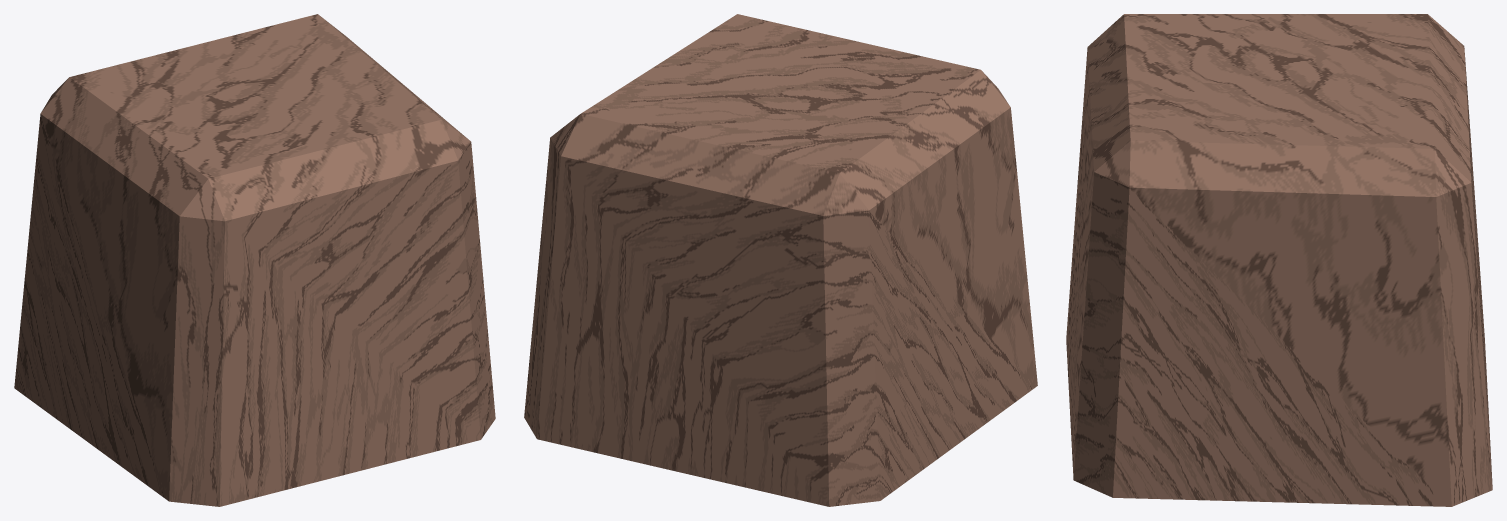
The model's file is Earth_BlockH.fbx.
3 renders of one model, left to right at view 1: azimuth 30°, elevation 25°; view 2: azimuth 150°, elevation 25°; view 3: azimuth 270°, elevation 25°, orthographic. The views are drawn at different scales.
Parts seen in each view (by area): view 1: Earth_BlockH; view 2: Earth_BlockH; view 3: Earth_BlockH.
Boxes of the visible parts, x1,y1,x2,y2 form: Earth_BlockH: (14,14,495,506); Earth_BlockH: (524,14,1037,506); Earth_BlockH: (1066,14,1492,506).
Size of the model in its own units: 739 by 621 by 720.
